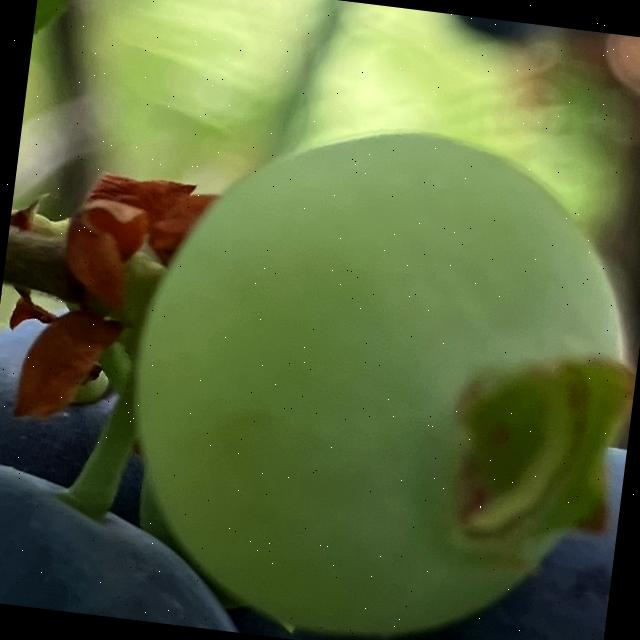Blueberries: (95, 93, 640, 640)
